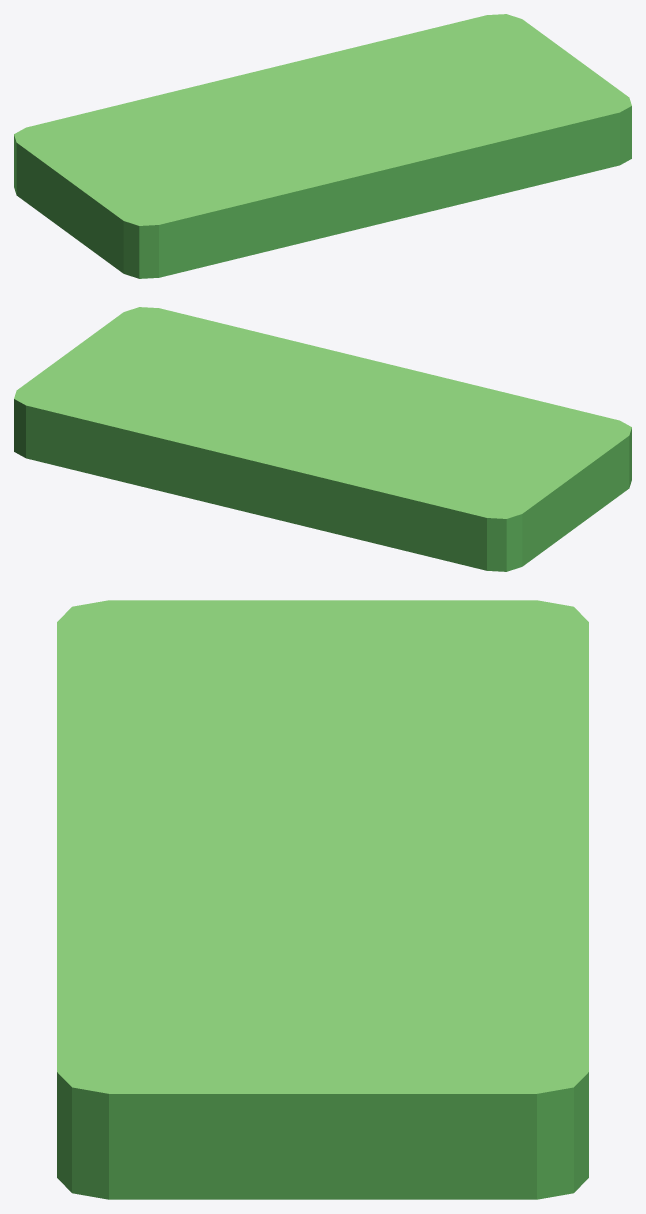
The model's file is persegi_panjang_low_poly.glb.
3 renders of one model, top to bottom at view 1: azimuth 30°, elevation 25°; view 2: azimuth 150°, elevation 25°; view 3: azimuth 270°, elevation 25°, orthographic. The views are drawn at different scales.
Parts seen in each view (by area): view 1: persegi_panjang_low_poly; view 2: persegi_panjang_low_poly; view 3: persegi_panjang_low_poly.
Part boxes in pixels (box(x1,y1,x2,y2)): persegi_panjang_low_poly: box(14, 14, 631, 278); persegi_panjang_low_poly: box(14, 307, 631, 571); persegi_panjang_low_poly: box(57, 600, 588, 1199).
Bounding box in the file's own units: 1.8 × 0.18 × 0.82.
